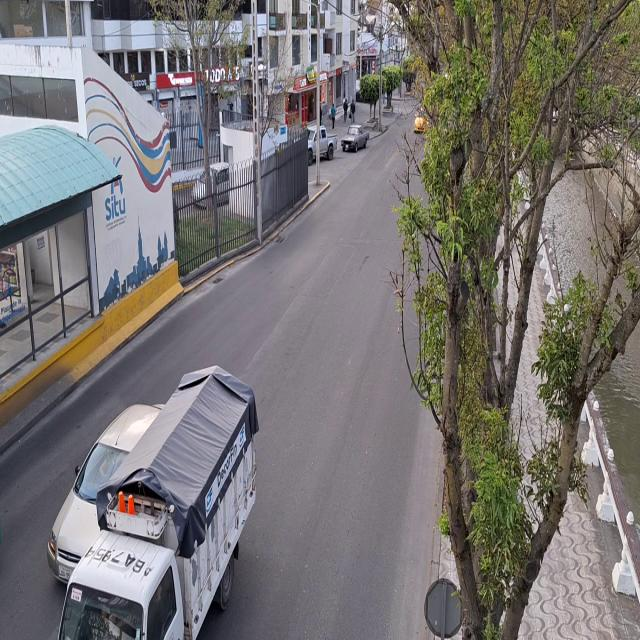CMT: (308, 126, 338, 160), (342, 124, 369, 152)
TRUCK: (54, 367, 260, 639)
